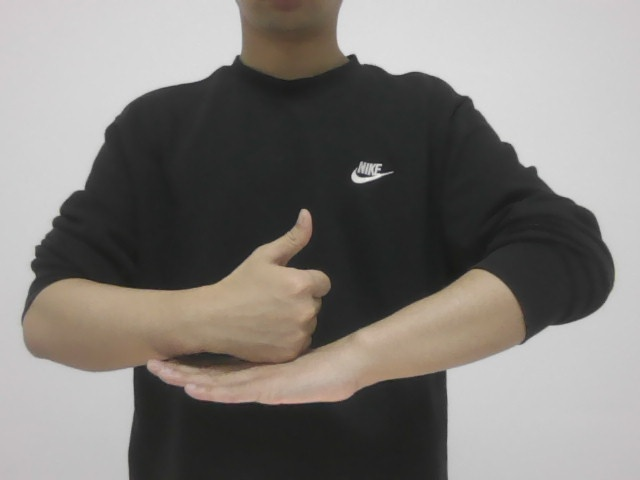new: (143, 201, 376, 411)
